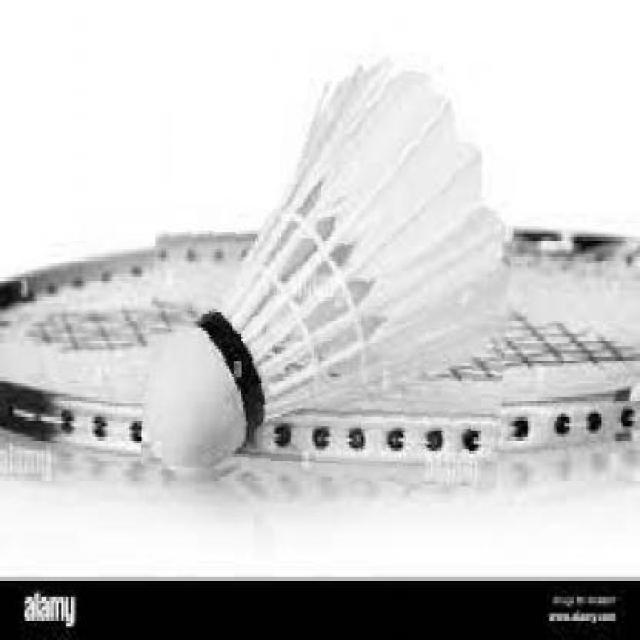Shuttlecock: (146, 45, 519, 483)
